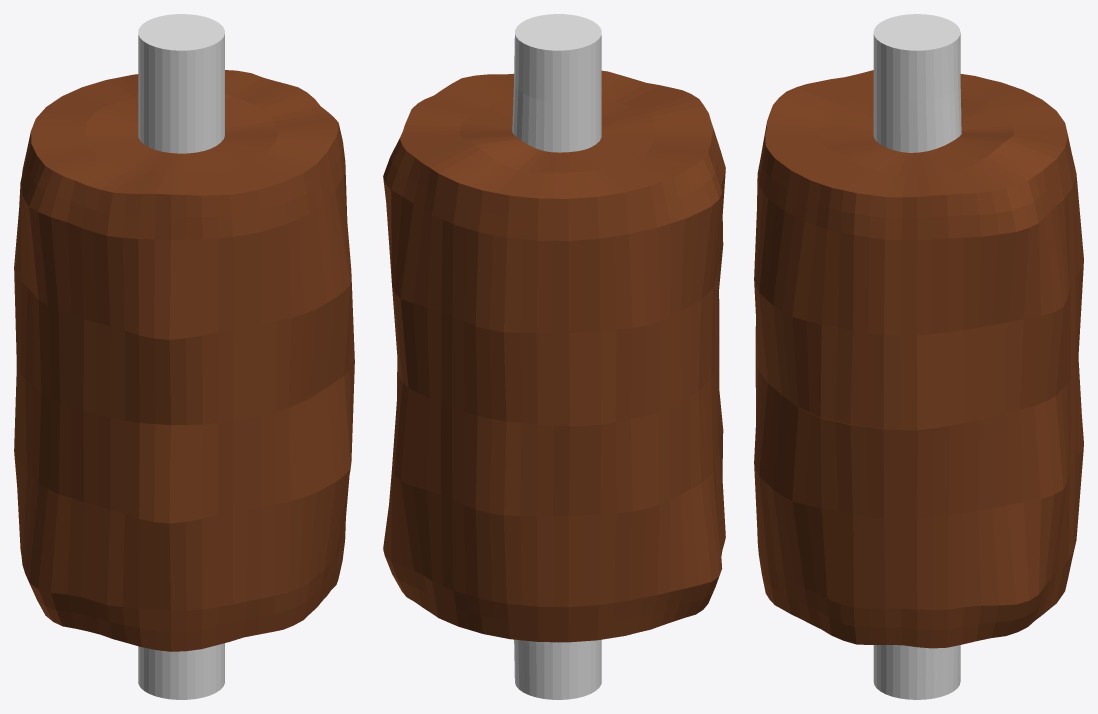
Rendered from Kebab.fbx.
3 renders of one model, left to right at view 1: azimuth 30°, elevation 25°; view 2: azimuth 150°, elevation 25°; view 3: azimuth 270°, elevation 25°, orthographic.
Visible parts, largest first — view 1: Cylinder; view 2: Cylinder; view 3: Cylinder.
Part boxes in pixels (x1=…): Cylinder: x1=14, y1=14, x2=354, y2=699; Cylinder: x1=383, y1=14, x2=725, y2=699; Cylinder: x1=754, y1=14, x2=1083, y2=699.
Size of the model in its own units: 139 by 284 by 131.
